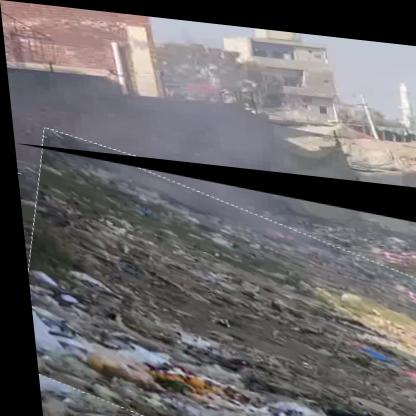Garbage: (12, 144, 416, 416)
